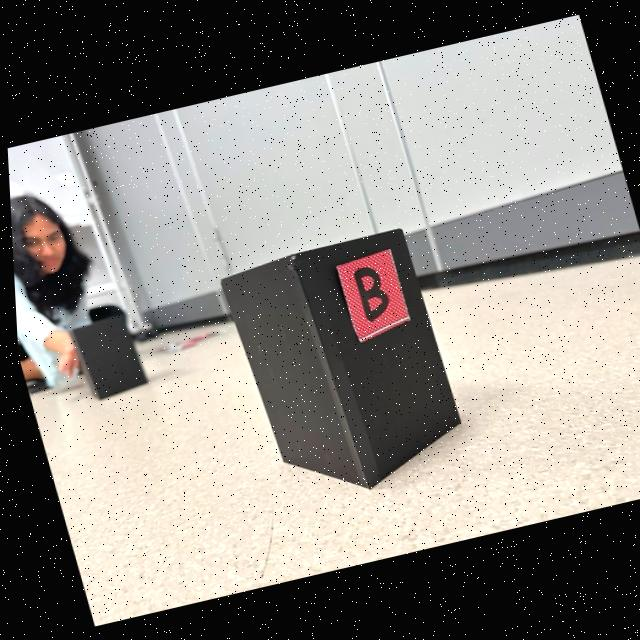B: (352, 267, 386, 321)
